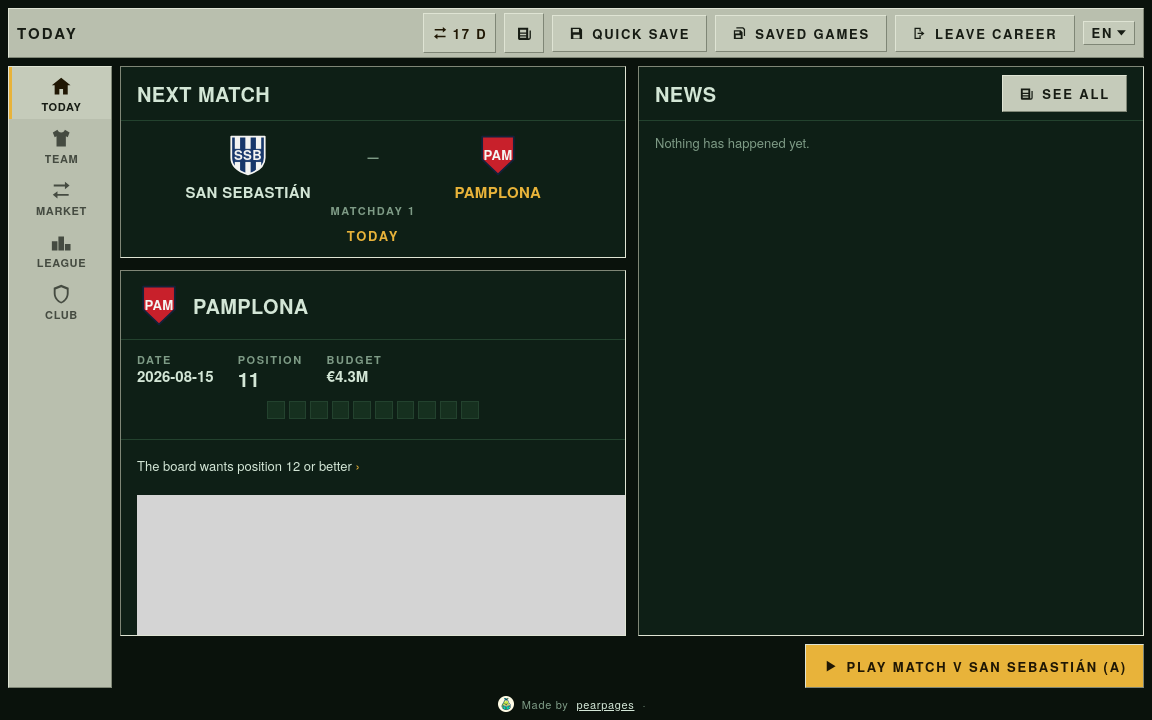
it: the language button › sits where the news button used to, and offers all three
Click the button "EN" at (1109, 33), box [1082,21,1135,45]
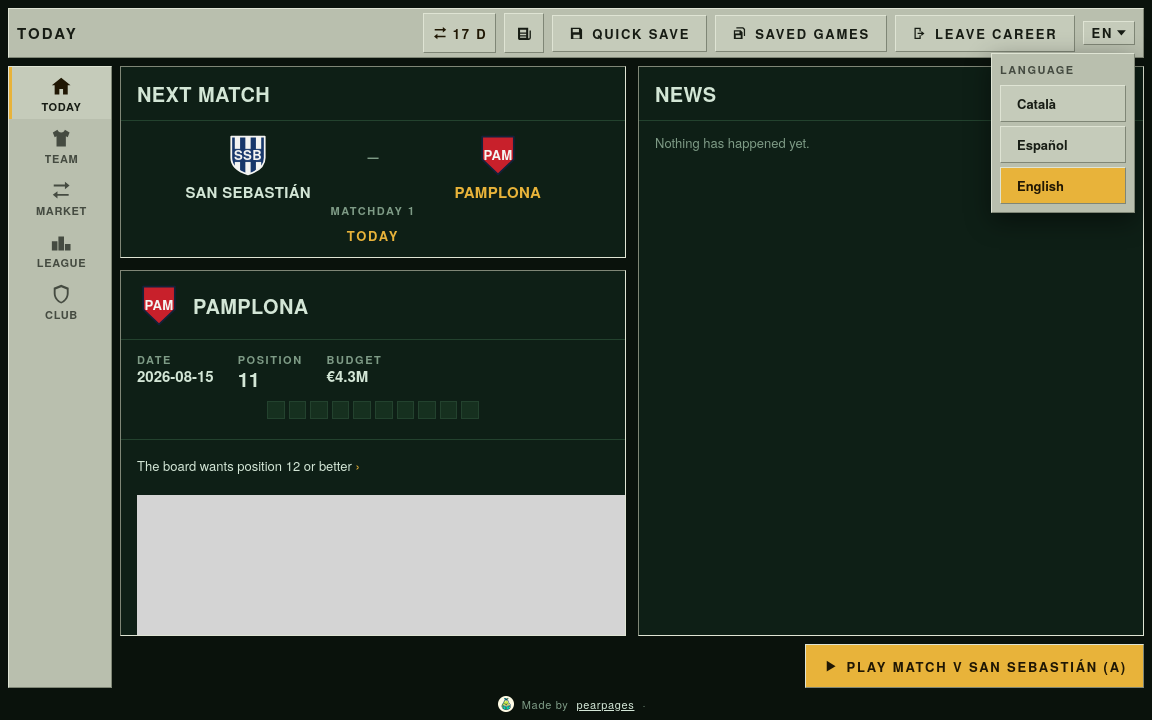
Expected: the button "Català" is shown, [1000,85,1126,122]
Expected: the button "Español" is shown, [1000,126,1126,163]
Expected: the button "English" is shown, [1000,167,1126,204]
